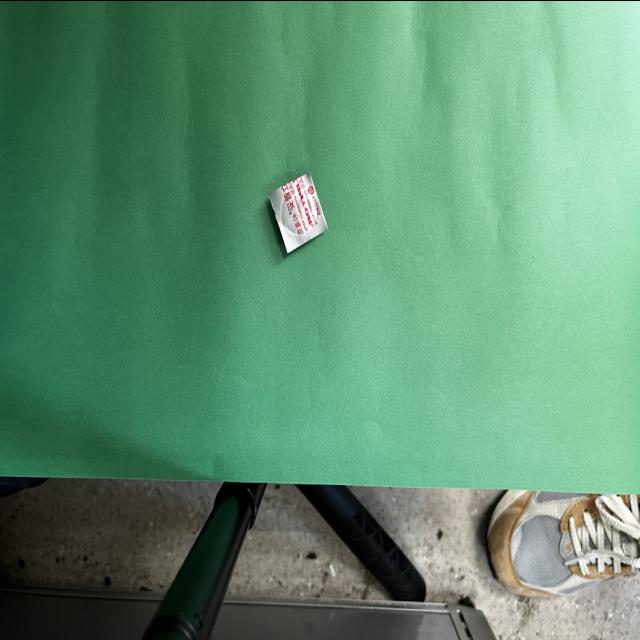Other Objects: (269, 172, 328, 253), (292, 211, 298, 221)
